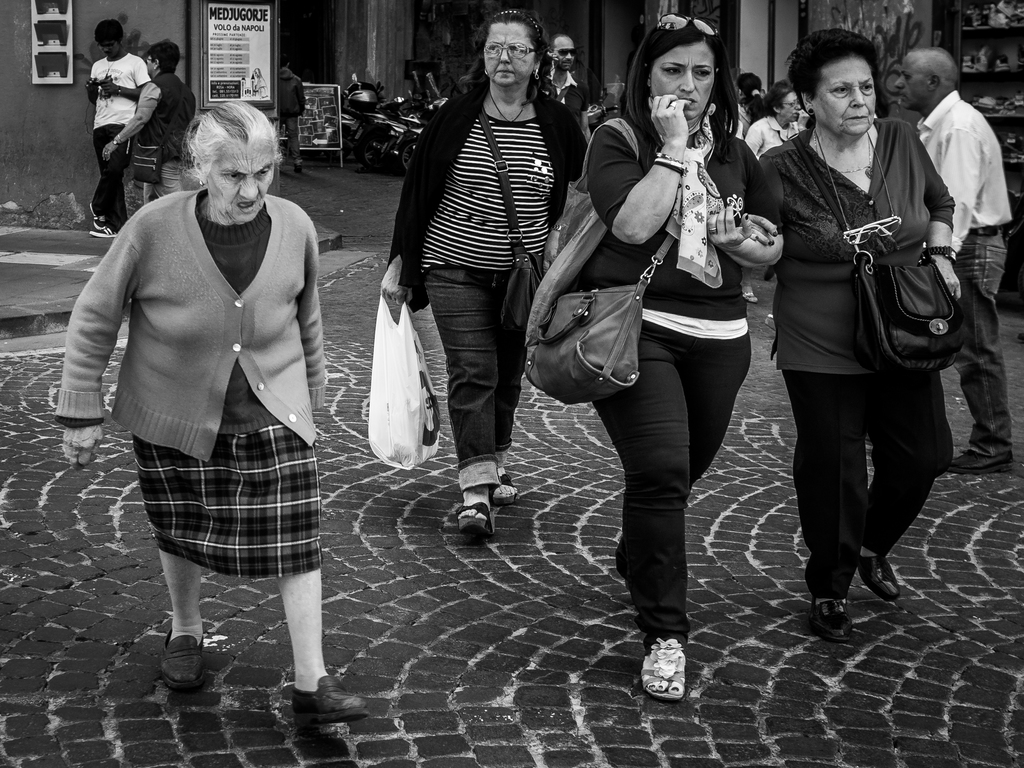Footwear: (141, 630, 202, 714), (292, 676, 368, 726), (642, 638, 687, 701), (856, 559, 904, 601), (812, 601, 853, 646), (947, 450, 1017, 474), (456, 506, 493, 539), (490, 474, 523, 507), (89, 202, 109, 233), (89, 228, 118, 239), (765, 265, 776, 280), (861, 436, 872, 450)
